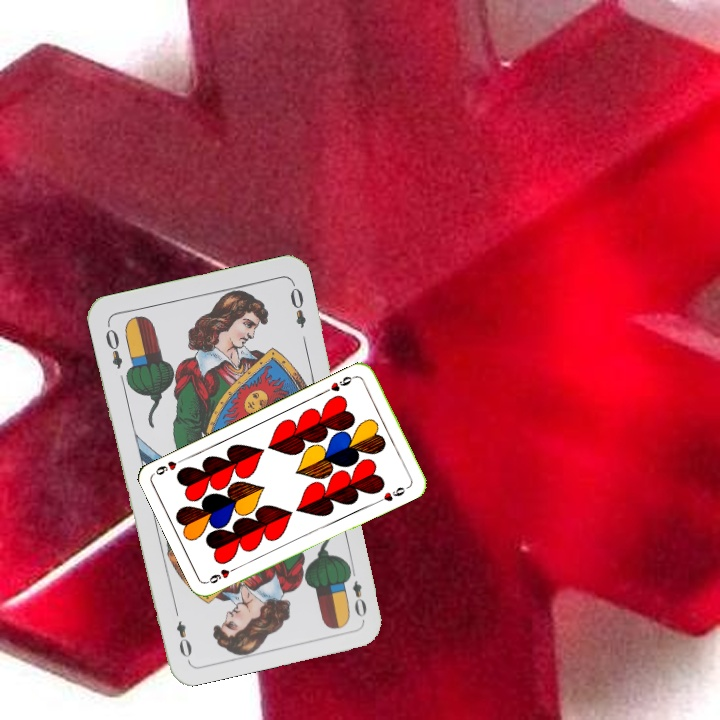EO: (343, 563, 370, 620), (101, 324, 125, 371)
H9: (203, 562, 242, 586), (321, 372, 359, 395)
